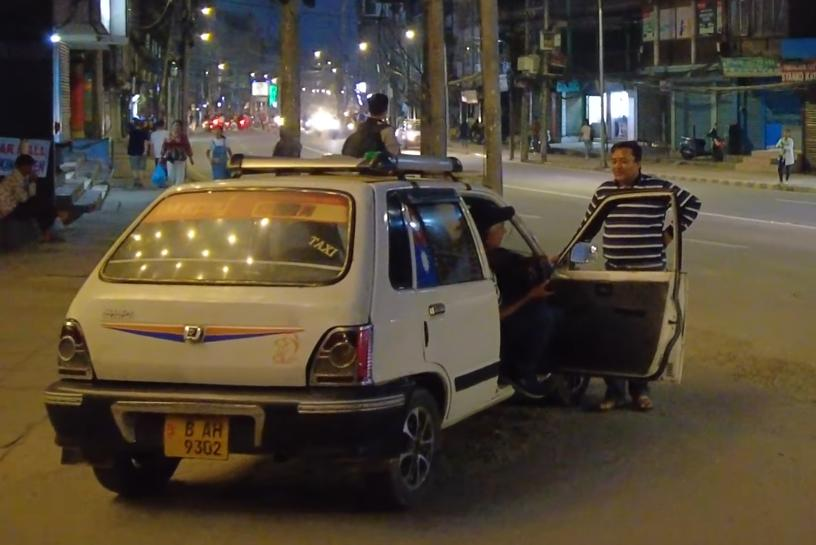taxi: (35, 135, 630, 510)
